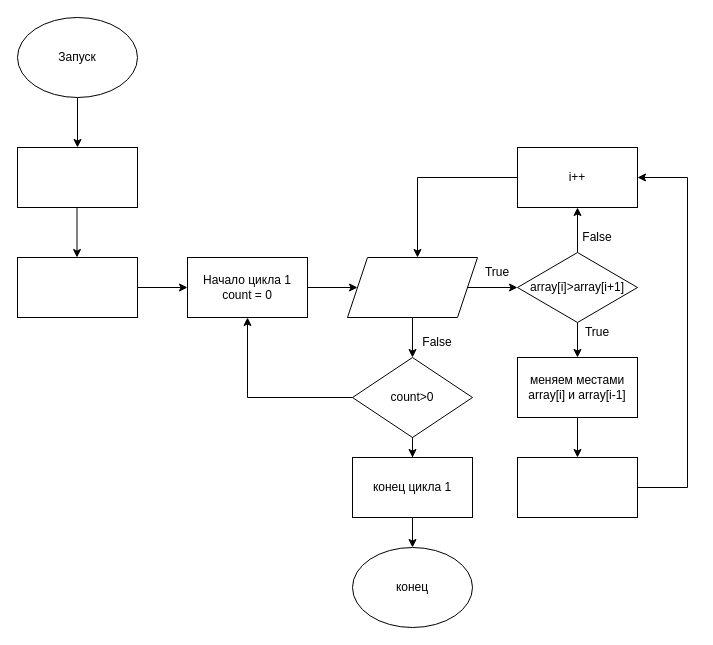
The diagram is 713 pixels wide and 645 high, and some of its shapes have lost their labels. The centre of each missing label's shape, as x and y in pixels:
Начало цикла 2 i = 1 i<array.length-1 i++: the point at 412,287
определяем переменную int count: the point at 77,287
считываем массив array: the point at 77,177
увеличиваем счётчик count++: the point at 577,487
